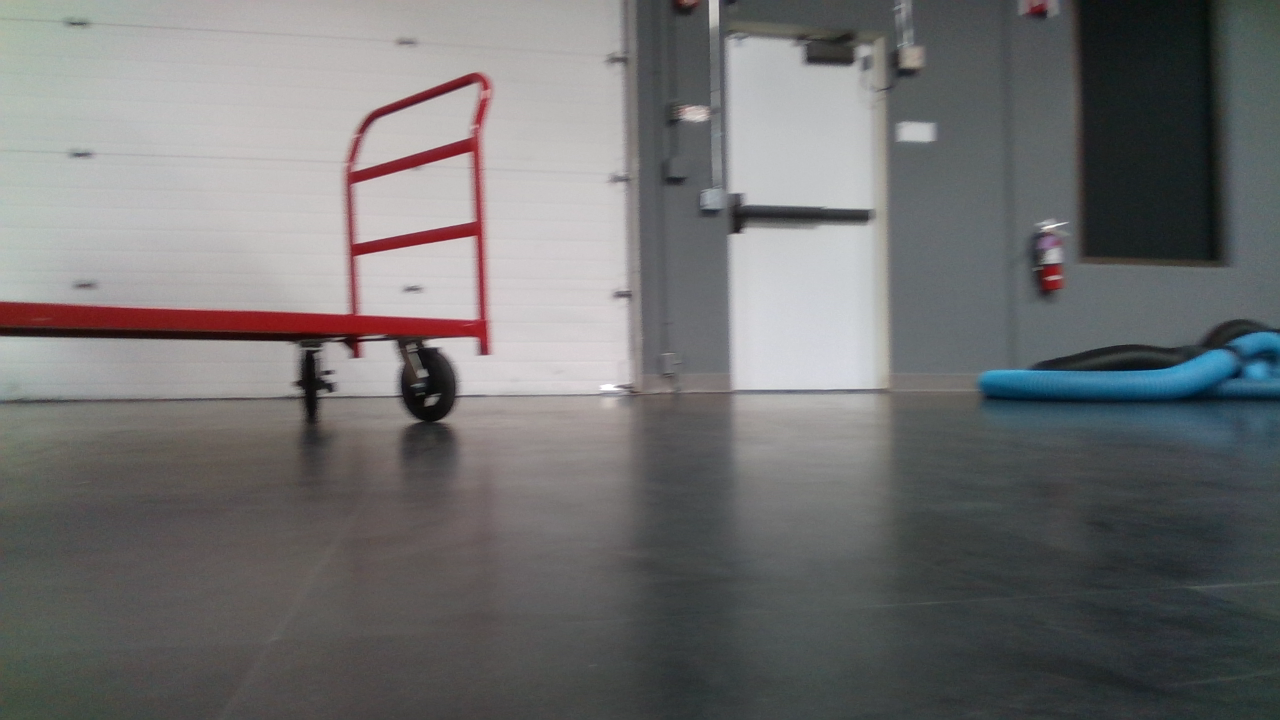Dolly: (0, 65, 510, 442)
Wheel: (399, 345, 457, 423), (294, 349, 328, 421)
